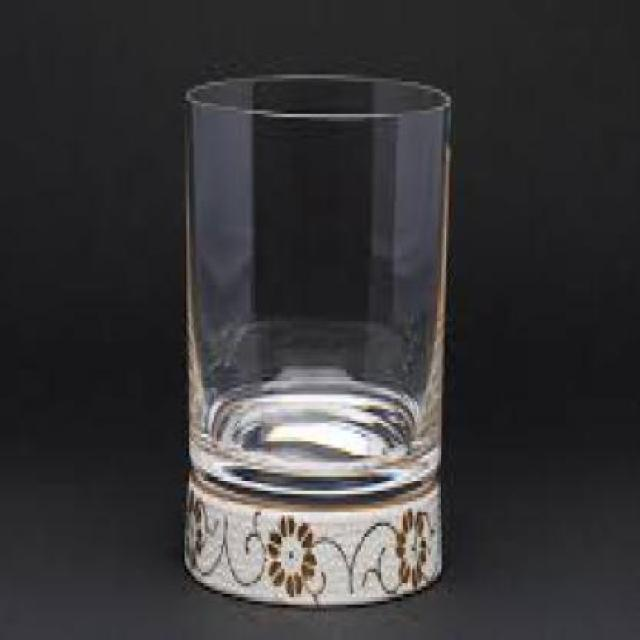kaca: (180, 70, 451, 604)
